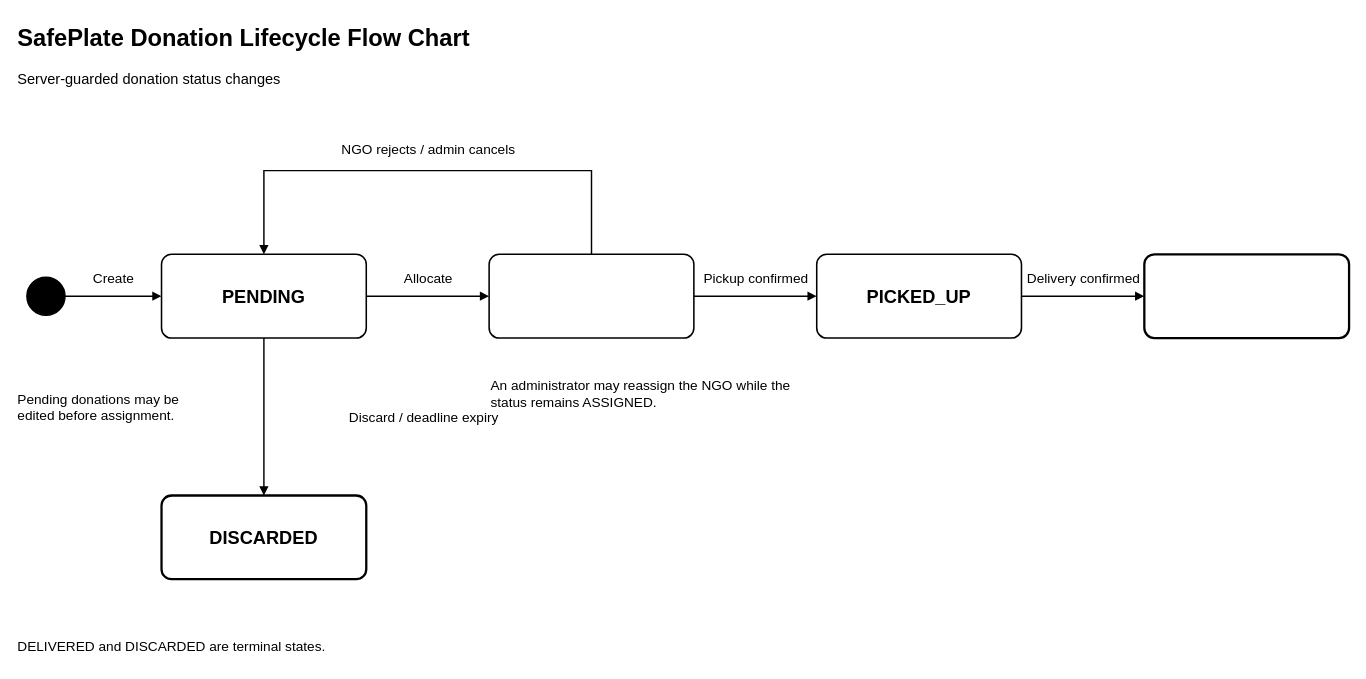
Image size: 1366x679. Some labels were removed from this diagram. The box of each missing label's shape, as (x1, y1, x2, y2) in pixels:
ASSIGNED: (488, 253, 694, 338)
DELIVERED: (1143, 253, 1350, 339)
